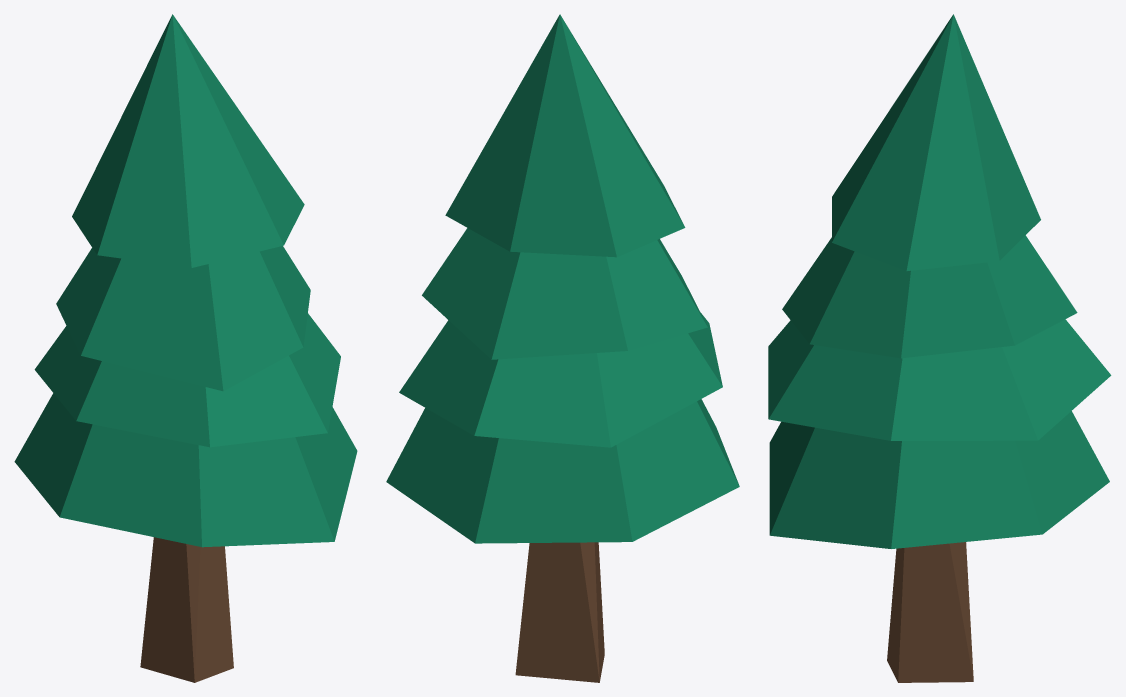
Rendered from LowPoly_Tree2.fbx.
3 renders of one model, left to right at view 1: azimuth 30°, elevation 25°; view 2: azimuth 150°, elevation 25°; view 3: azimuth 270°, elevation 25°, orthographic. The views are drawn at different scales.
Visible parts, largest first — view 1: Cylinder; view 2: Cylinder; view 3: Cylinder.
Boxes of the visible parts, x1,y1,x2,y2 form: Cylinder: (14, 14, 357, 682); Cylinder: (386, 14, 739, 682); Cylinder: (768, 14, 1111, 682).
Size of the model in its own units: 500 by 1031 by 492.
